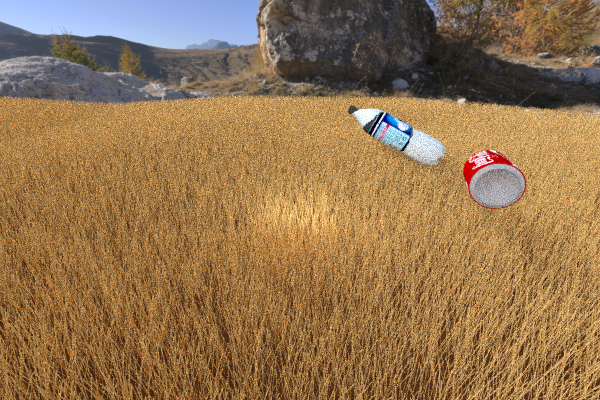Plastic Bottle: (347, 105, 446, 166), (463, 150, 526, 208)
